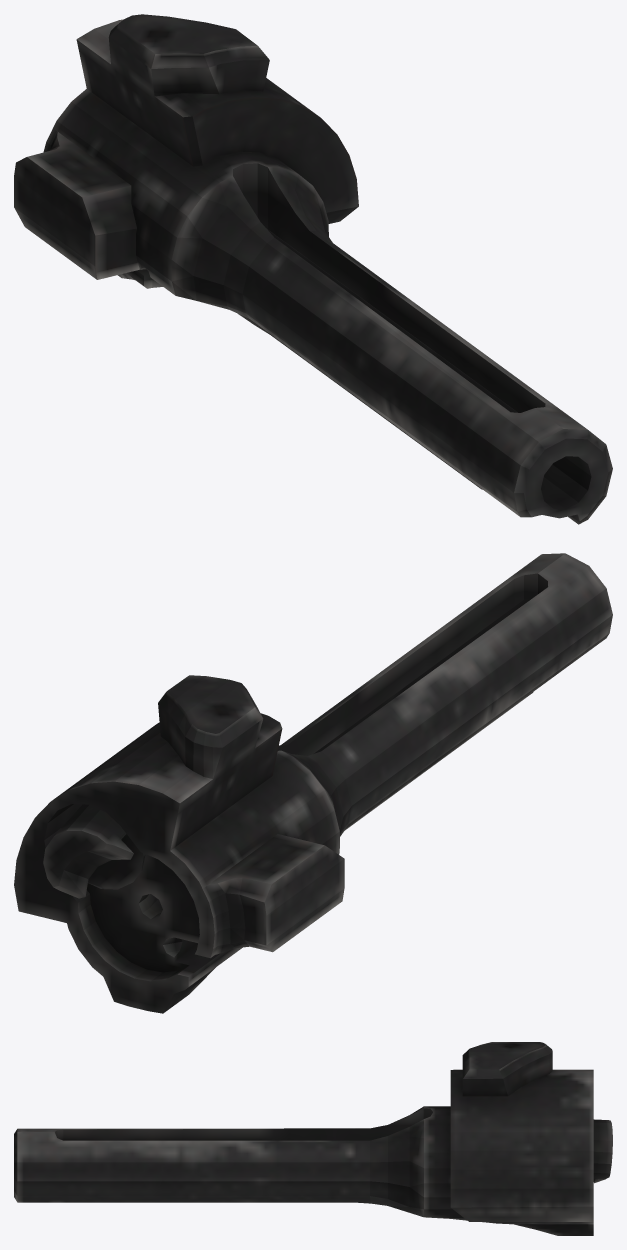
3 renders of one model, top to bottom at view 1: azimuth 30°, elevation 25°; view 2: azimuth 150°, elevation 25°; view 3: azimuth 270°, elevation 25°, orthographic. The views are drawn at different scales.
Visible parts, largest first — view 1: TW_64ca3d3954fc657e230529cc_PZ_Import; view 2: TW_64ca3d3954fc657e230529cc_PZ_Import; view 3: TW_64ca3d3954fc657e230529cc_PZ_Import.
Boxes of the visible parts, box(x1,y1,x2,y2) form: TW_64ca3d3954fc657e230529cc_PZ_Import: box(14, 14, 612, 524); TW_64ca3d3954fc657e230529cc_PZ_Import: box(14, 553, 612, 1013); TW_64ca3d3954fc657e230529cc_PZ_Import: box(14, 1042, 612, 1235).
Bounding box in the file's own units: 0.0163 × 0.0524 × 0.0171.
Materials: 1 (1 with a texture image).
